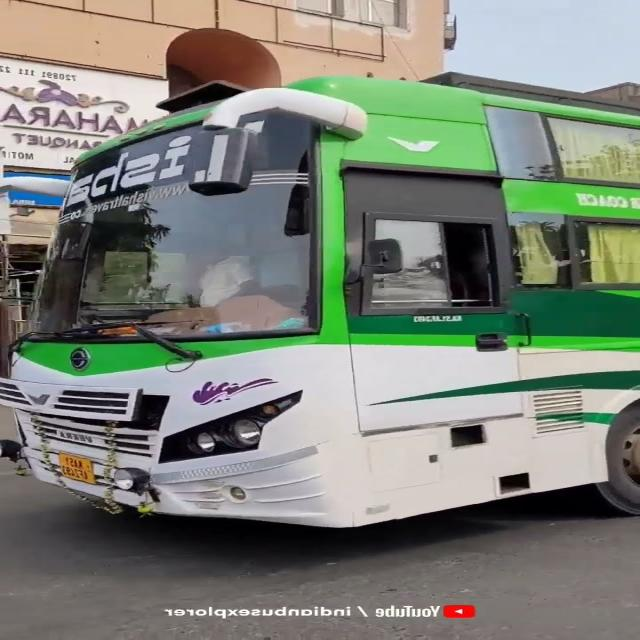bus: (0, 33, 640, 532)
